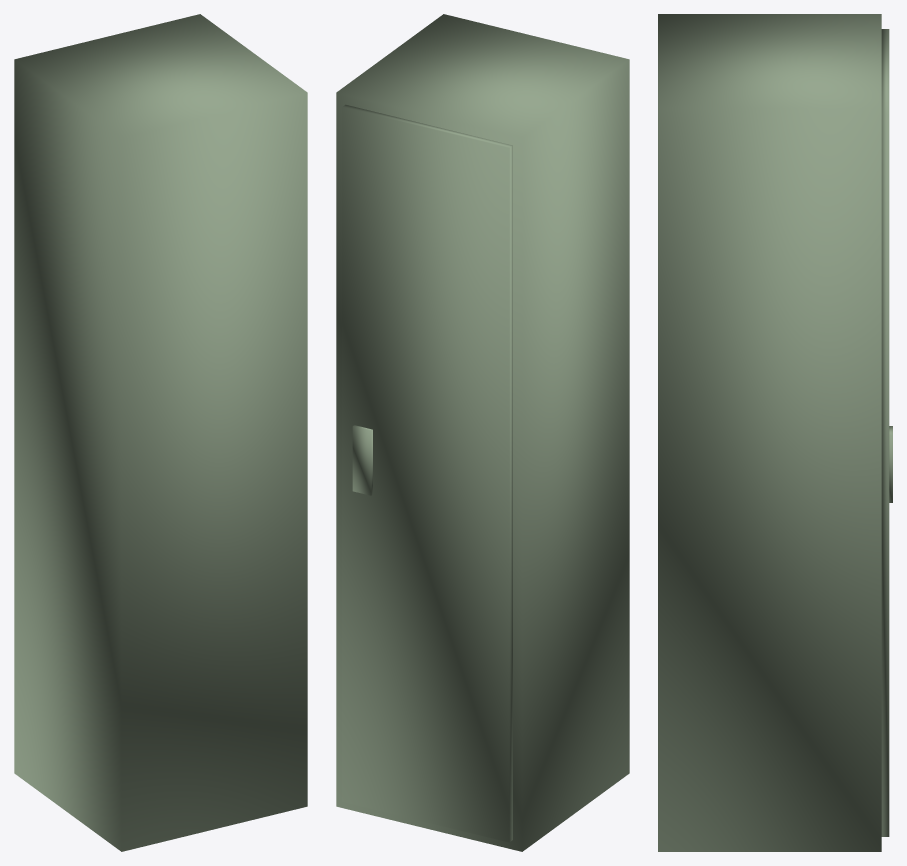
The model's file is SM_HidingLocker.fbx.
3 views of the same model, side by side, from view 1: azimuth 30°, elevation 25°; view 2: azimuth 150°, elevation 25°; view 3: azimuth 270°, elevation 25° (orthographic). The views are drawn at different scales.
Visible parts, largest first — view 1: Cube; view 2: Cube; view 3: Cube.
Boxes of the visible parts, x1,y1,x2,y2 form: Cube: (14, 14, 307, 851); Cube: (336, 14, 629, 851); Cube: (658, 14, 892, 851).
Size of the model in its own units: 60 by 220 by 63.
